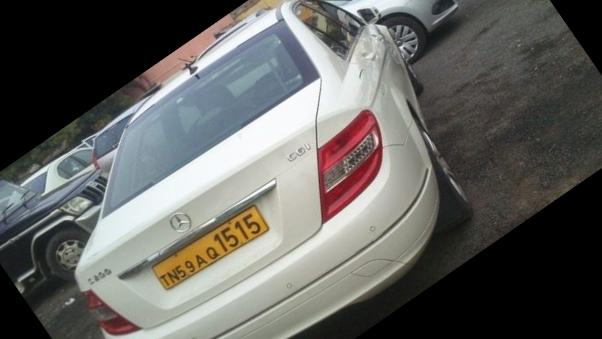plate: (128, 177, 301, 322)
